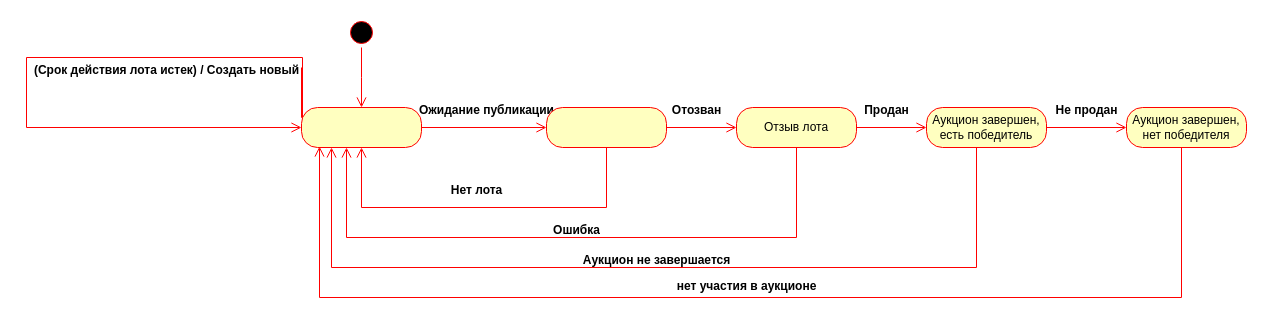
Image size: 1264x325. Some labels were removed from this diagram. Each missing label, with the box of its shape:
Публикация лота: (546, 106, 666, 148)
Создан лот: (300, 106, 422, 148)
